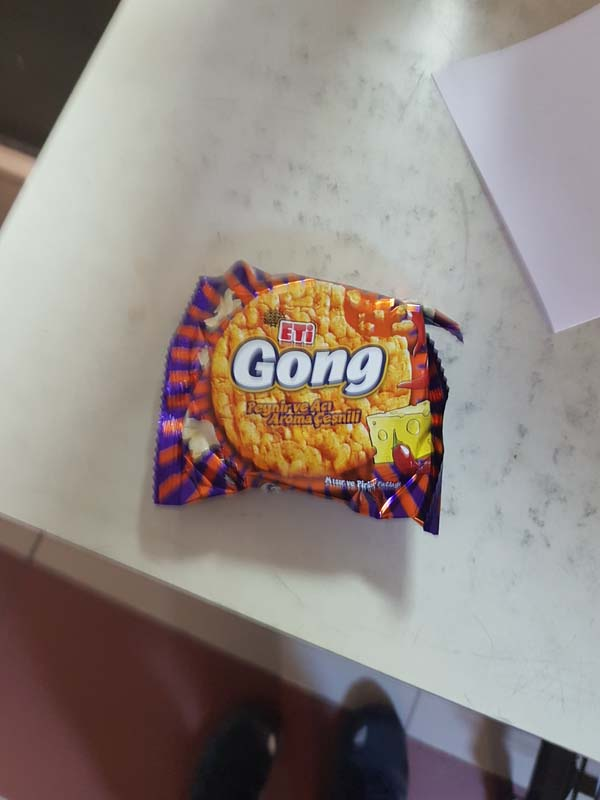etigong: (149, 255, 453, 534)
